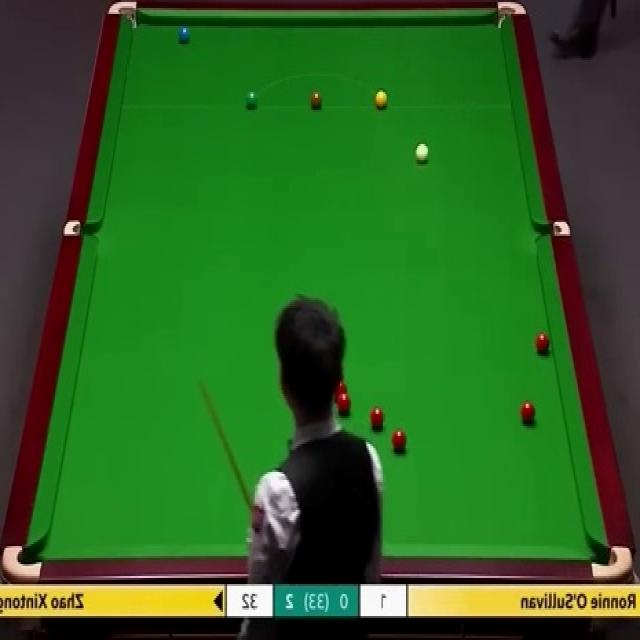blue-ball: (179, 24, 191, 44)
brown-ball: (309, 90, 322, 110)
green-ball: (245, 90, 259, 111)
red-ball: (334, 392, 352, 416), (390, 429, 408, 451), (521, 398, 536, 424), (332, 378, 348, 400), (534, 333, 550, 355), (371, 405, 386, 428)
white-ball: (415, 142, 429, 166)
yellow-ball: (374, 89, 389, 110)
